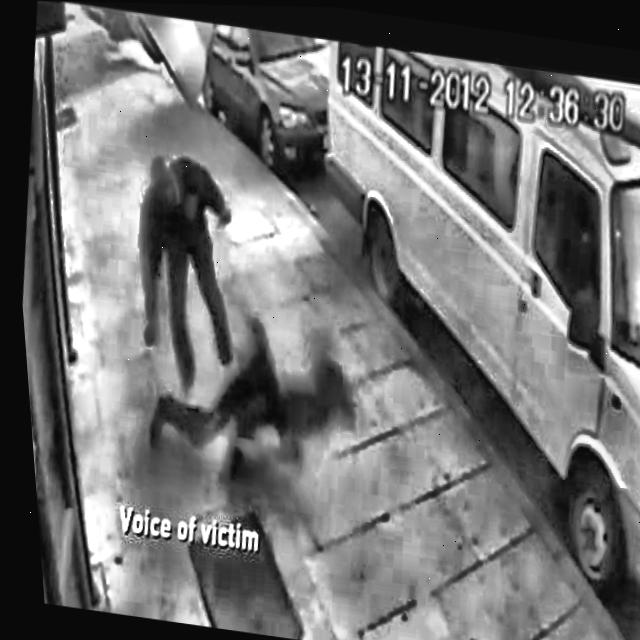robbery: (135, 145, 367, 500)
